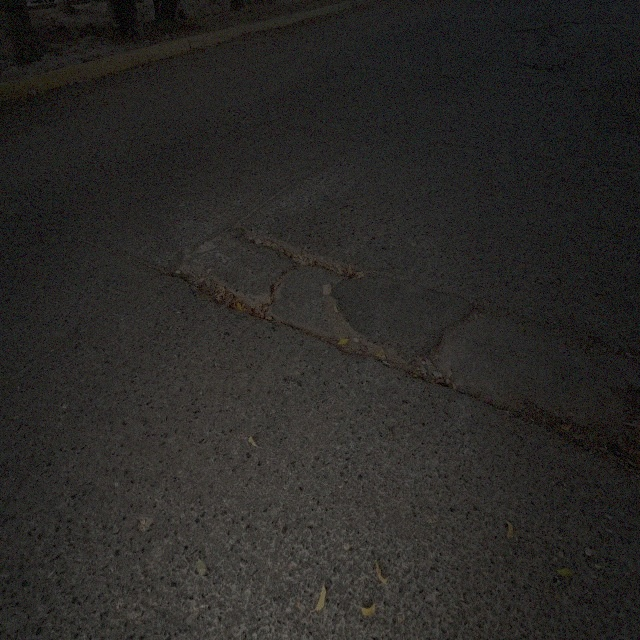pothole: (316, 290, 422, 375), (244, 220, 358, 284), (510, 384, 597, 458), (167, 247, 256, 310), (466, 296, 505, 318)
